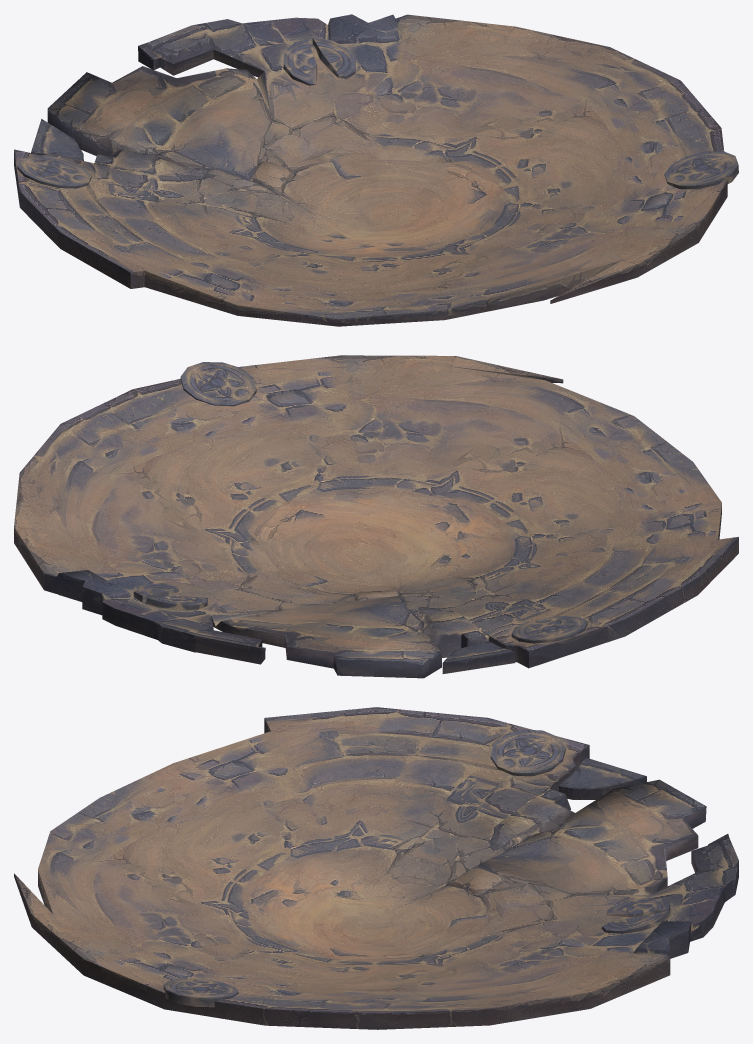
3 views of the same model, one above another, from view 1: azimuth 30°, elevation 25°; view 2: azimuth 150°, elevation 25°; view 3: azimuth 270°, elevation 25° (orthographic). The views are drawn at different scales.
Parts seen in each view (by area): view 1: 58023_03; view 2: 58023_03; view 3: 58023_03.
Part boxes in pixels (box(x1,y1,x2,y2)): 58023_03: box(14, 14, 738, 326); 58023_03: box(14, 355, 738, 678); 58023_03: box(14, 707, 738, 1029).
Bounding box in the file's own units: 2737 × 284 × 2737.
